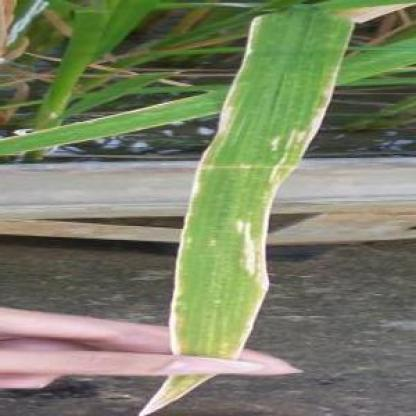Blight: (172, 2, 363, 360)
